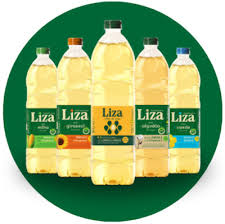óleo_de_cozinha: (88, 20, 136, 185), (56, 38, 92, 178), (135, 36, 170, 176), (168, 47, 202, 173), (26, 46, 59, 170)
